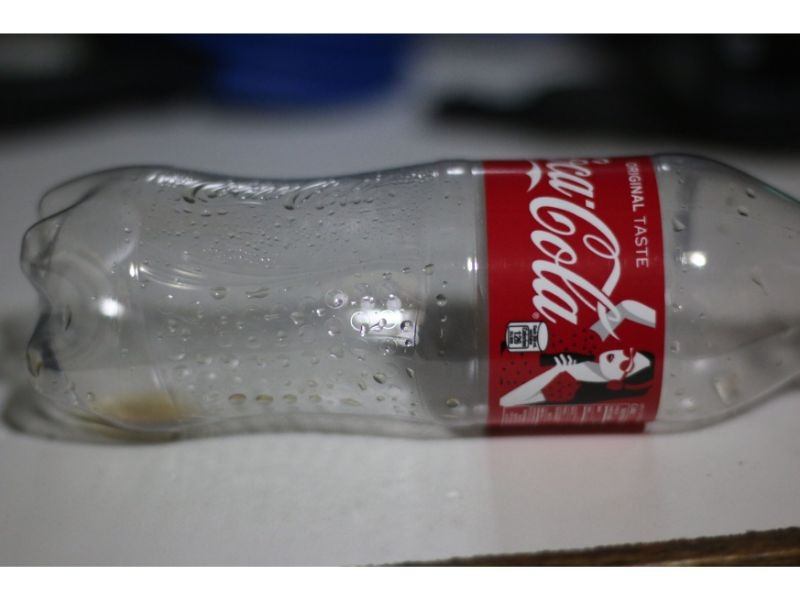PET #1: (22, 155, 799, 435)
